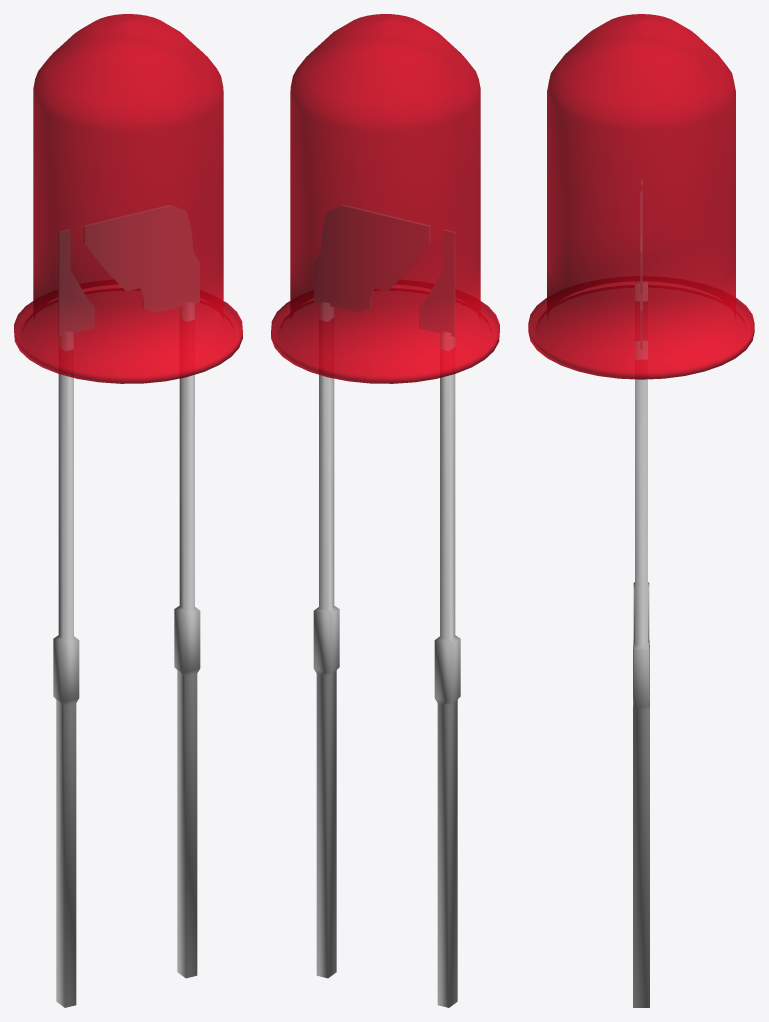
Rendered from LedRed.fbx.
3 renders of one model, left to right at view 1: azimuth 30°, elevation 25°; view 2: azimuth 150°, elevation 25°; view 3: azimuth 270°, elevation 25°, orthographic.
Visible parts, largest first — view 1: Cylinder, Cube.003, Cube, Cube.002, Cube.001; view 2: Cylinder, Cube.003, Cube, Cube.002, Cube.001; view 3: Cylinder, Cube, Cube.003.
Part boxes in pixels (bbox=[...]): Cylinder: bbox=[14, 14, 242, 383]; Cube.003: bbox=[53, 331, 79, 1007]; Cube: bbox=[174, 302, 200, 978]; Cube.002: bbox=[84, 205, 199, 312]; Cube.001: bbox=[58, 229, 94, 336]; Cylinder: bbox=[271, 14, 499, 383]; Cube.003: bbox=[434, 331, 460, 1007]; Cube: bbox=[313, 302, 339, 978]; Cube.002: bbox=[314, 205, 429, 312]; Cube.001: bbox=[419, 230, 454, 336]; Cylinder: bbox=[528, 14, 754, 379]; Cube: bbox=[633, 339, 649, 1007]; Cube.003: bbox=[633, 281, 649, 702].
Bounding box in the file's own units: 19.02 × 88.66 × 19.02.
